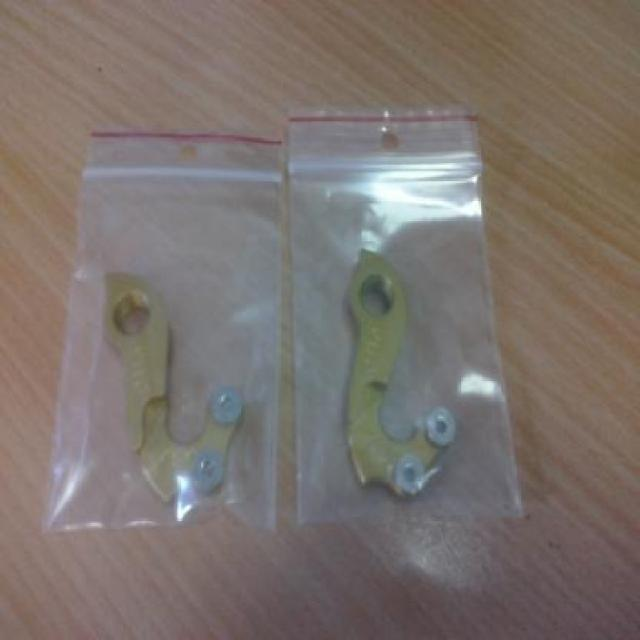plastic bag: (41, 116, 302, 570)
